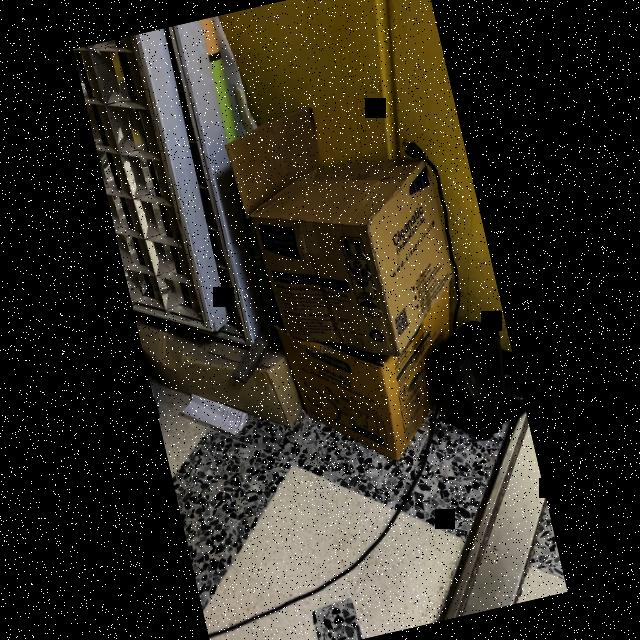cardboard_box: (218, 78, 476, 388), (274, 270, 490, 483)
